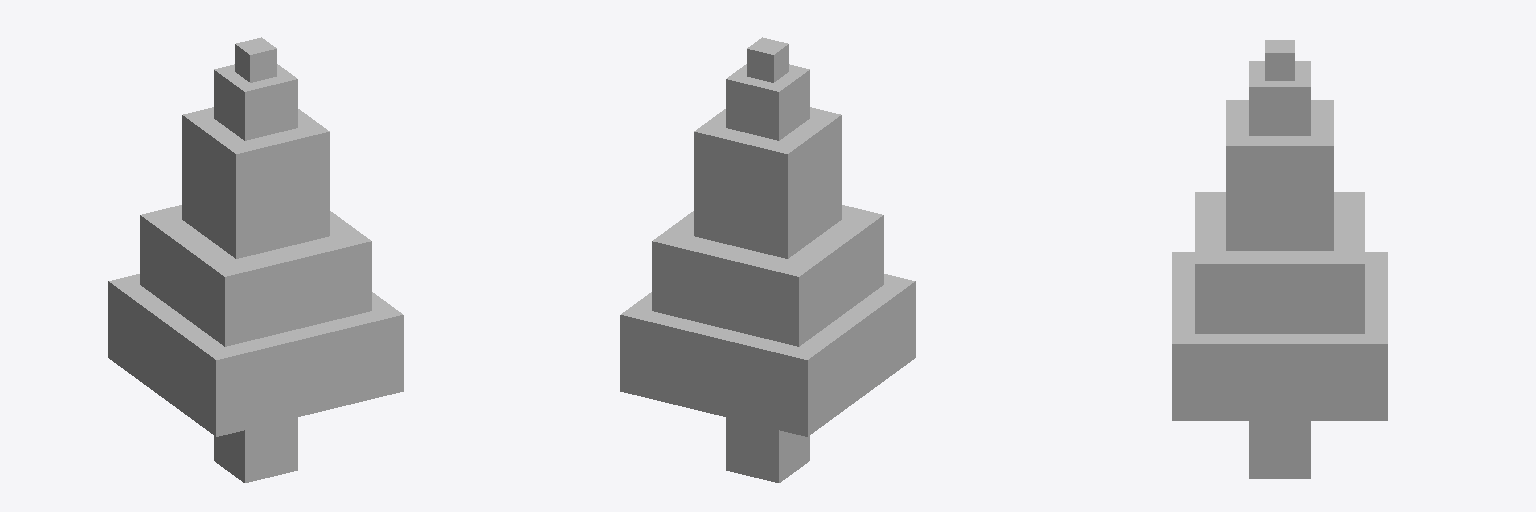
Rendered from tree2.obj.
3 renders of one model, left to right at view 1: azimuth 30°, elevation 25°; view 2: azimuth 150°, elevation 25°; view 3: azimuth 270°, elevation 25°, orthographic.
Size of the model in its own units: 28 by 60 by 28.